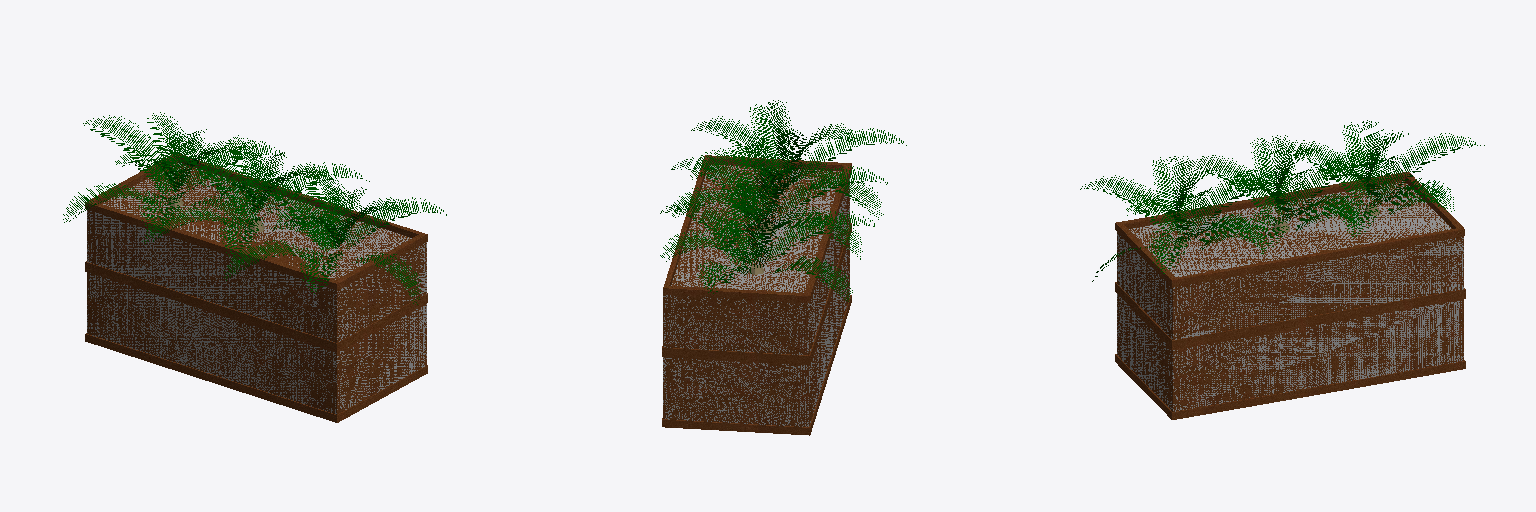
3 views of the same model, side by side, from view 1: azimuth 30°, elevation 25°; view 2: azimuth 150°, elevation 25°; view 3: azimuth 270°, elevation 25° (orthographic).
Parts seen in each view (by area): view 1: mesh5.001_mesh5-geometry; view 2: mesh5.001_mesh5-geometry; view 3: mesh5.001_mesh5-geometry.
Boxes of the visible parts, x1,y1,x2,y2 form: mesh5.001_mesh5-geometry: [85, 154, 427, 422]; mesh5.001_mesh5-geometry: [662, 155, 851, 435]; mesh5.001_mesh5-geometry: [1115, 172, 1465, 419].
Size of the model in its own units: 0.5586 by 0.4132 by 0.7192.
Materials: 5 (1 with a texture image).